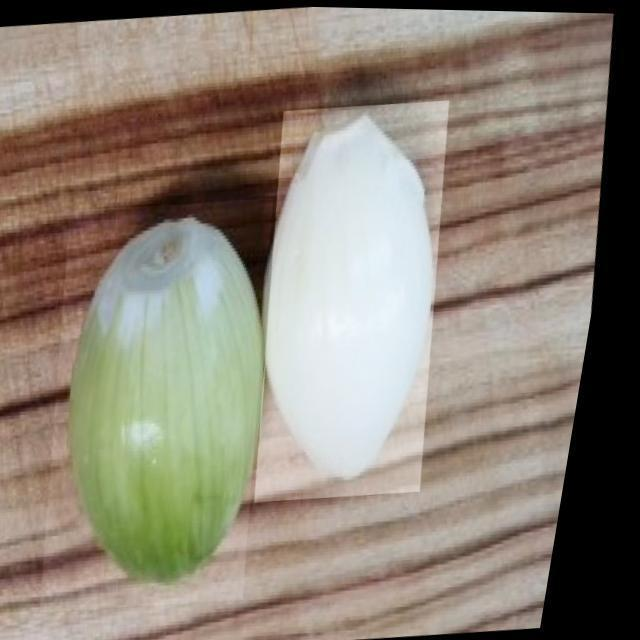Onion: (25, 193, 314, 614), (236, 96, 486, 503)
